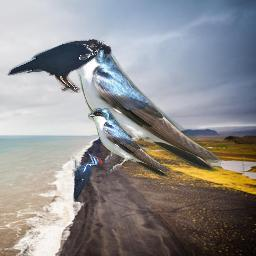Crow: (6, 38, 112, 93)
Swallow: (63, 40, 222, 172), (88, 108, 171, 177)
Woodpecker: (72, 149, 103, 204)
